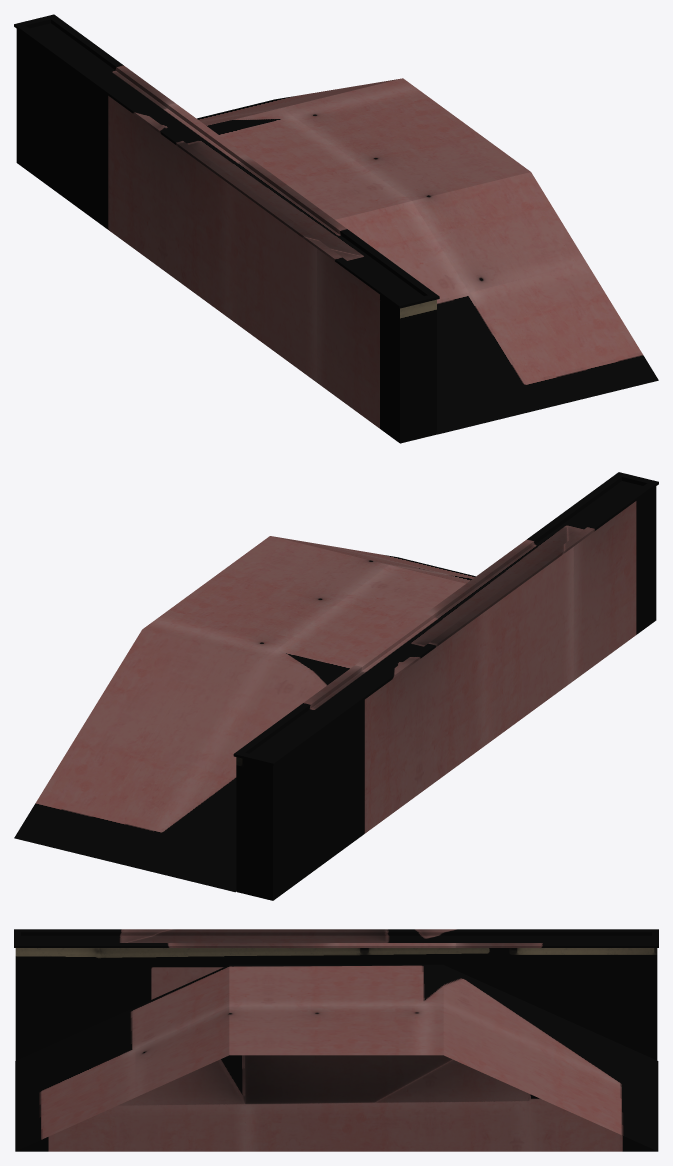
The model's file is Set3_Ramp07_1 1.fbx.
The picture shows the model from 3 angles, top to bottom: view 1: azimuth 30°, elevation 25°; view 2: azimuth 150°, elevation 25°; view 3: azimuth 270°, elevation 25°; orthographic projection. The views are drawn at different scales.
Visible parts, largest first — view 1: Set3_Ramp07_1; view 2: Set3_Ramp07_1; view 3: Set3_Ramp07_1.
Boxes of the visible parts, x1,y1,x2,y2 form: Set3_Ramp07_1: (14,14,658,443); Set3_Ramp07_1: (14,472,658,900); Set3_Ramp07_1: (14,929,658,1151).
Bounding box in the file's own units: 353 × 179 × 905.
